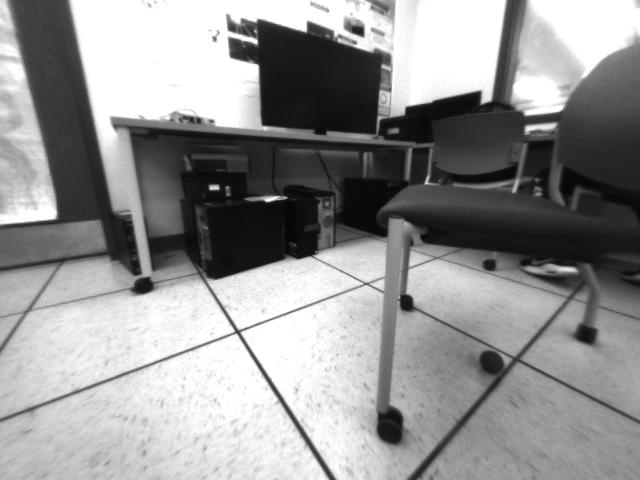dogtoy: (472, 344, 510, 377)
